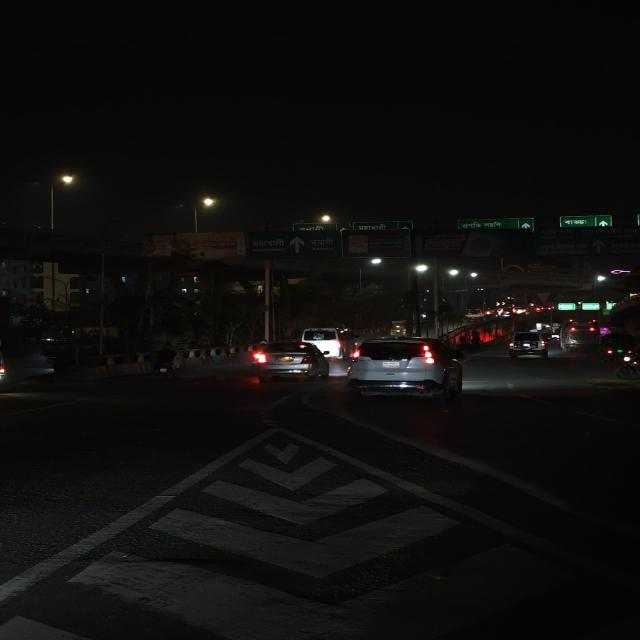bus: (558, 317, 600, 352)
car: (343, 336, 468, 404), (246, 339, 329, 382), (506, 329, 554, 361), (302, 327, 351, 353)
cng: (598, 330, 638, 362), (390, 321, 409, 337)
motorcycle: (615, 346, 640, 381)
pedestrian: (153, 342, 182, 378)
